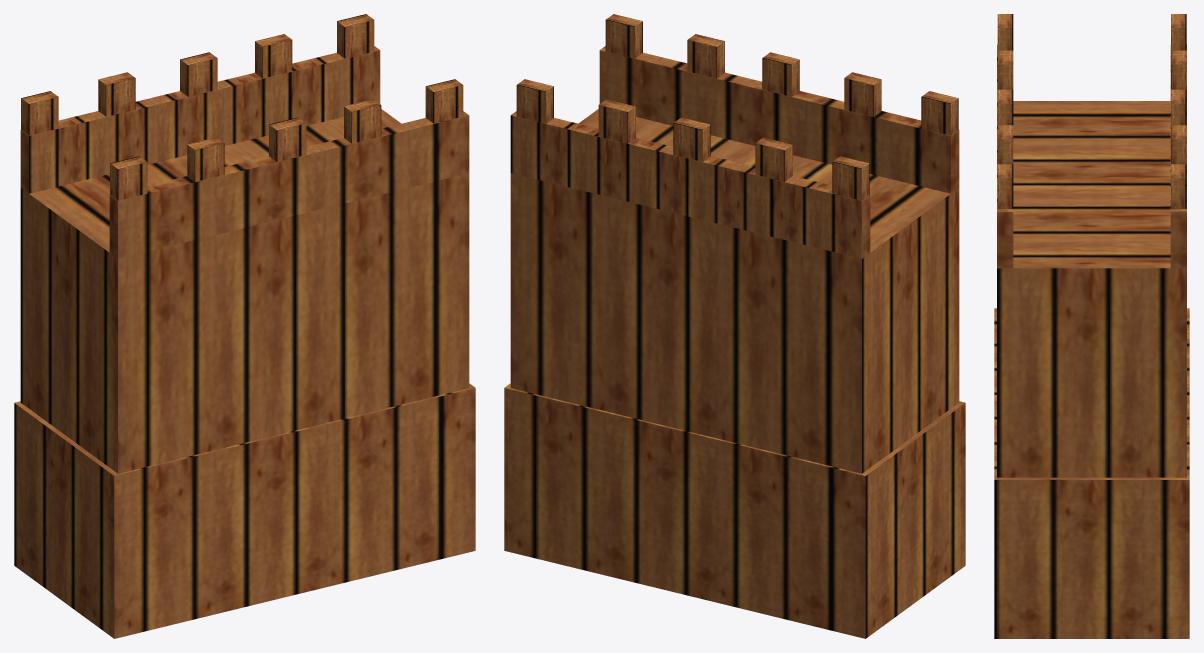
Rendered from wall_medium.dae.
3 renders of one model, left to right at view 1: azimuth 30°, elevation 25°; view 2: azimuth 150°, elevation 25°; view 3: azimuth 270°, elevation 25°, orthographic. The views are drawn at different scales.
Visible parts, largest first — view 1: wall_medium; view 2: wall_medium; view 3: wall_medium.
Boxes of the visible parts, x1=… form: wall_medium: x1=14, y1=14, x2=475, y2=638; wall_medium: x1=504, y1=14, x2=965, y2=638; wall_medium: x1=994, y1=14, x2=1189, y2=638.
Bounding box in the file's own units: 17.75 × 8.52 × 21.93.
